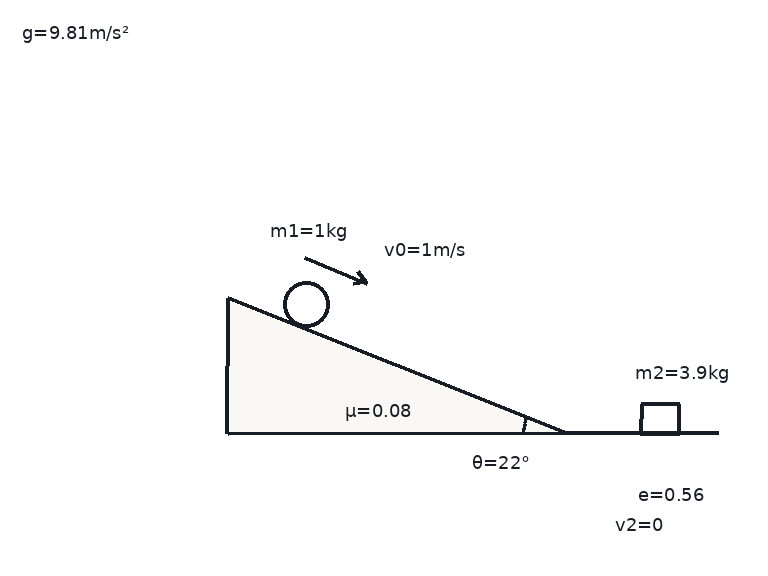ball: (281, 279, 331, 329)
block: (638, 402, 682, 435)
ramp: (224, 295, 565, 435)
